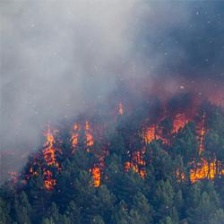fire: (30, 115, 224, 187)
smoke: (11, 6, 168, 97)
